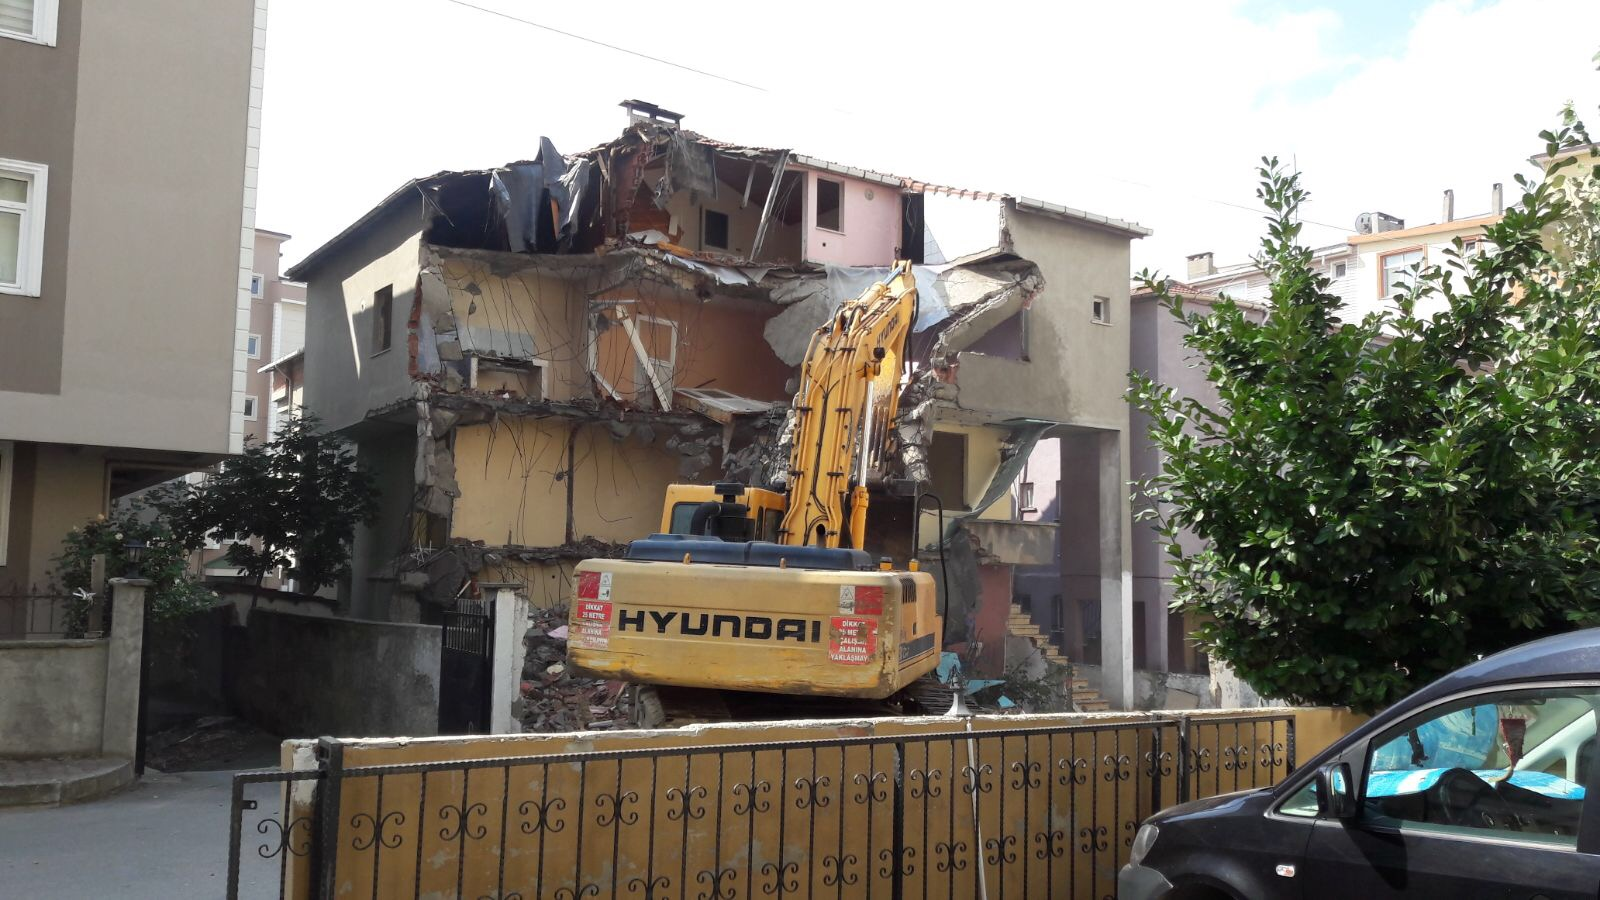copdegil: (413, 101, 1173, 898)
